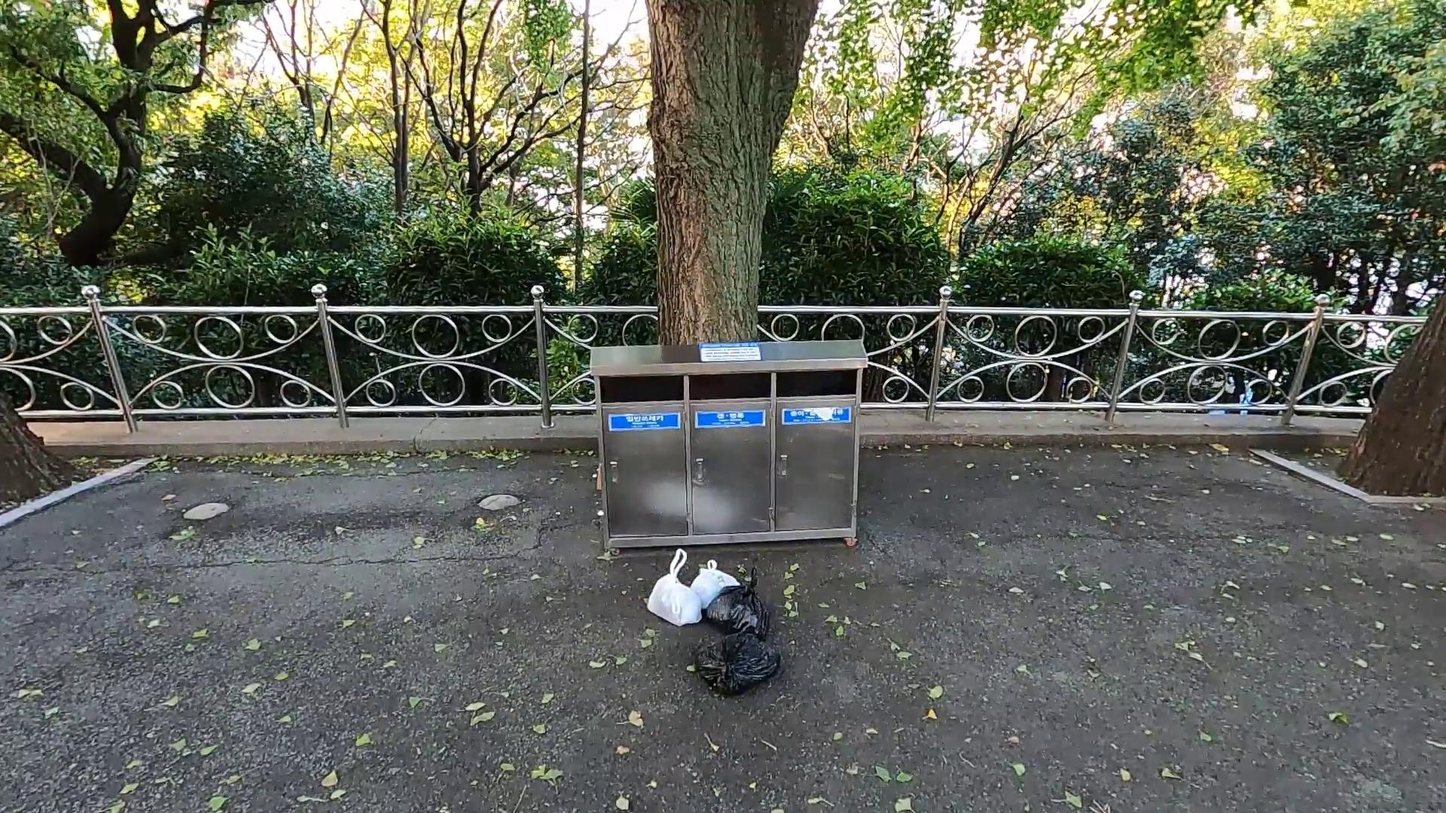trash: (697, 632, 782, 698), (703, 565, 770, 642), (646, 548, 704, 626), (690, 561, 744, 610)
